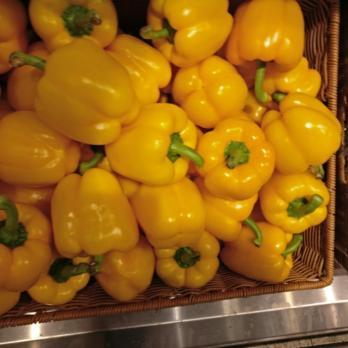Capsicum: (3, 2, 335, 288)
